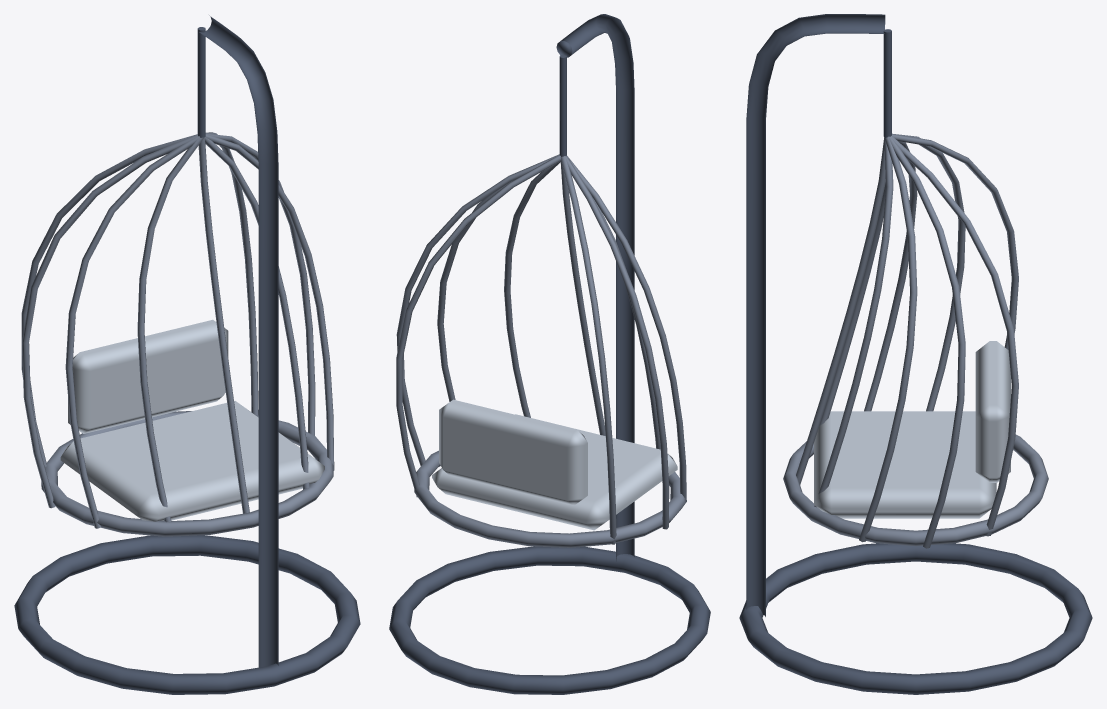
File: 鸟巢吊椅-lite.glb
3 renders of one model, left to right at view 1: azimuth 30°, elevation 25°; view 2: azimuth 150°, elevation 25°; view 3: azimuth 270°, elevation 25°, orthographic. The views are drawn at different scales.
Parts seen in each view (by area): view 1: garden-hanging-chair; view 2: garden-hanging-chair; view 3: garden-hanging-chair.
Boxes of the visible parts, <box> form: garden-hanging-chair: <box>14,15,360,694</box>; garden-hanging-chair: <box>389,14,710,694</box>; garden-hanging-chair: <box>739,14,1092,694</box>.
Bounding box in the file's own units: 1.1 × 2.19 × 1.15.
